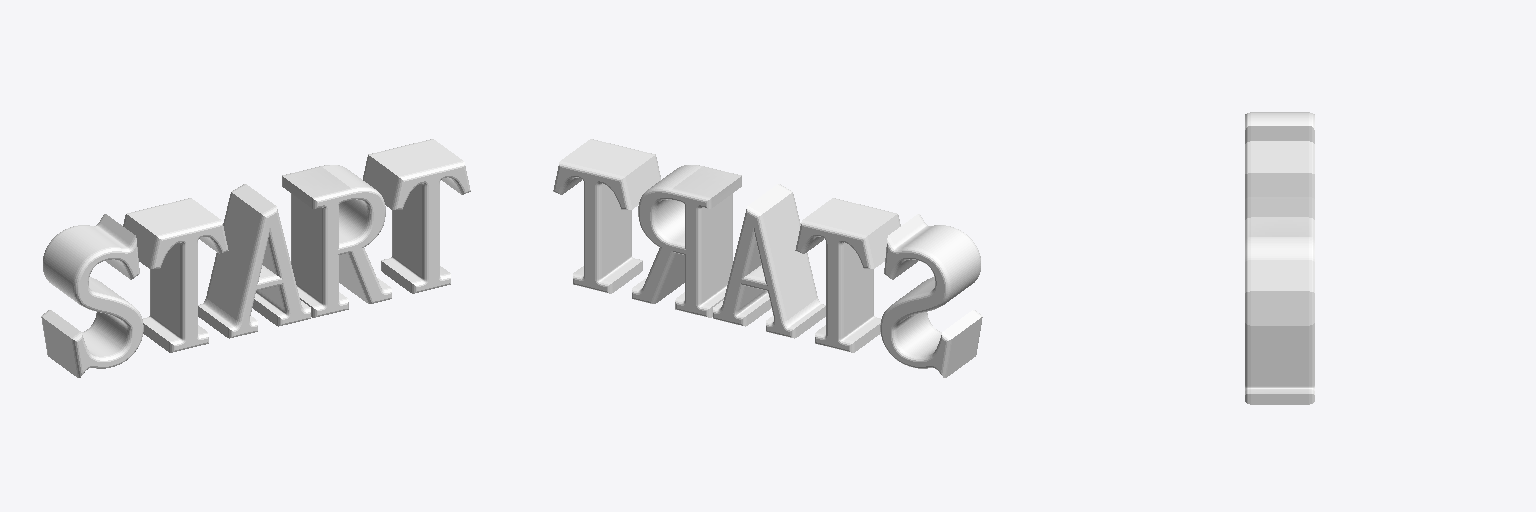
3 renders of one model, left to right at view 1: azimuth 30°, elevation 25°; view 2: azimuth 150°, elevation 25°; view 3: azimuth 270°, elevation 25°, orthographic.
Visible parts, largest first — view 1: テキスト.004; view 2: テキスト.004; view 3: テキスト.004.
Part boxes in pixels (bbox=[...]): テキスト.004: bbox=[41, 139, 470, 377]; テキスト.004: bbox=[553, 139, 982, 377]; テキスト.004: bbox=[1245, 112, 1314, 404].
Bounding box in the file's own units: 3.2 × 0.9889 × 0.4896.
Materials: 1 (1 with a texture image).